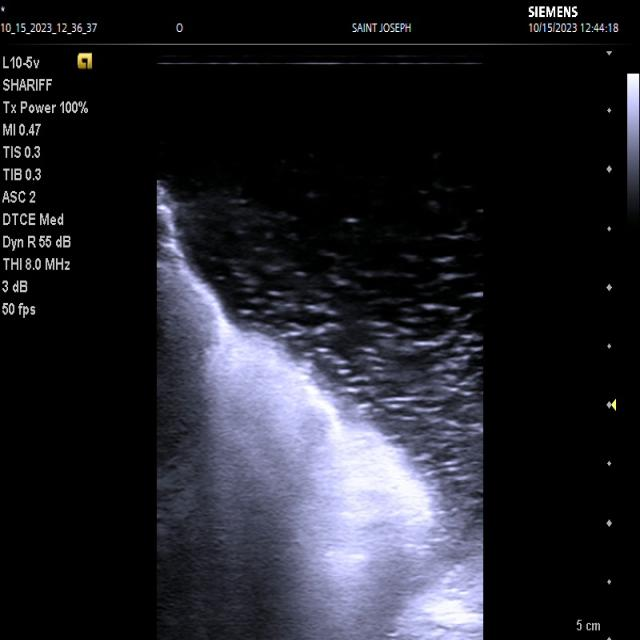tissue: (156, 187, 481, 640)
